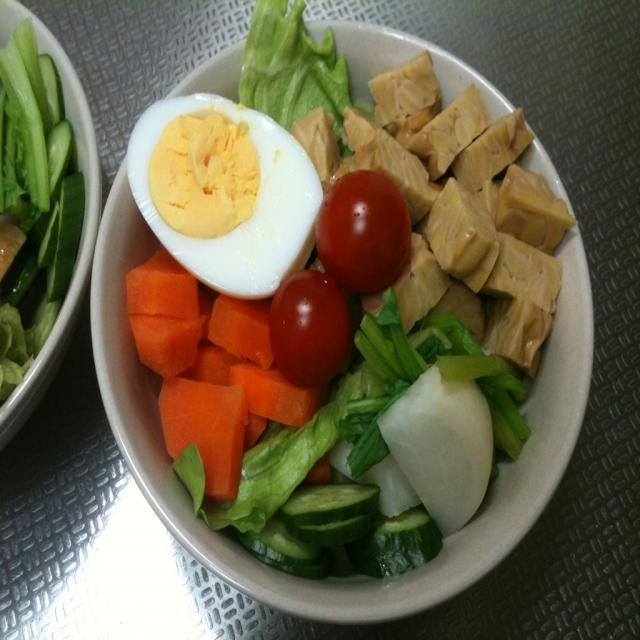Salad: (120, 0, 576, 590), (0, 0, 90, 416)
